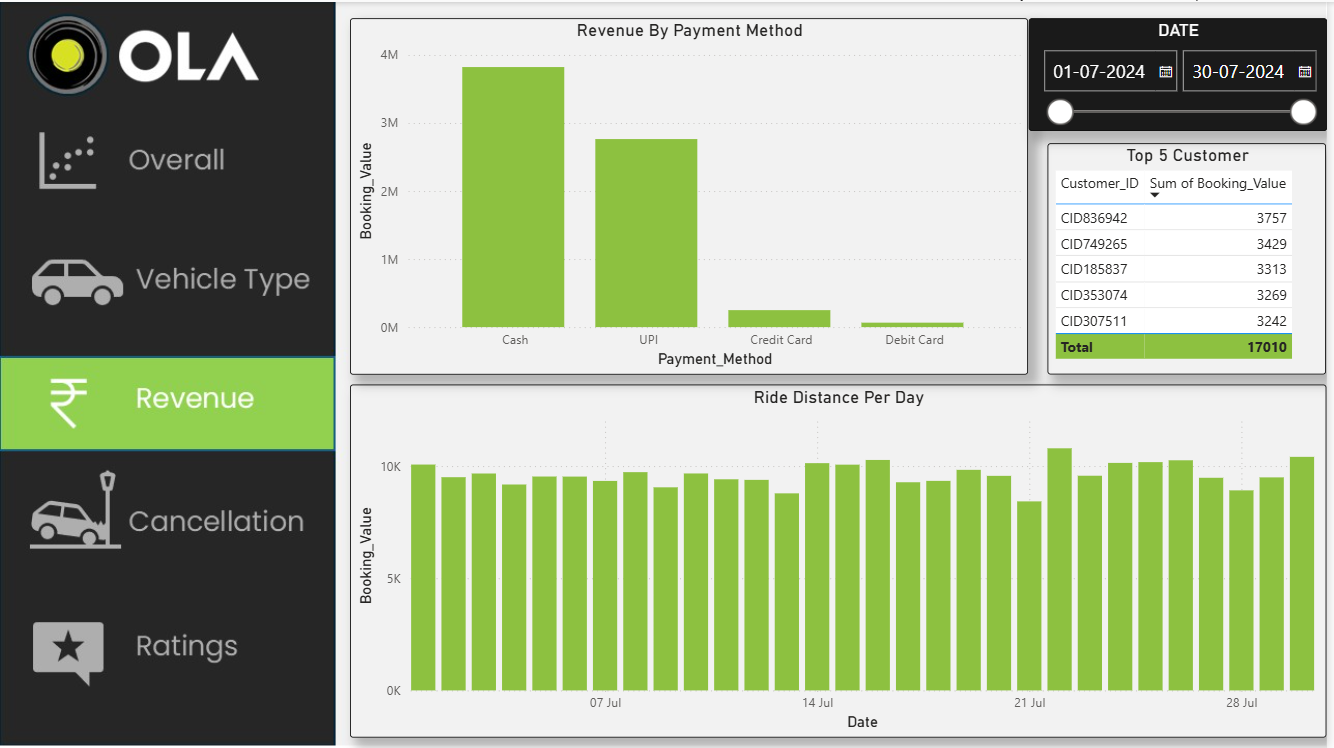

Layout of this report page (visuals, bound fields, positions):
{"tool":"powerbi","page":{"name":"Revenue","canvas":[1280,720],"ordinal":2},"visuals":[{"type":"actionButton","box":[0,450,322.1,79.6],"z":0},{"type":"actionButton","box":[0,450,322.1,79.6],"z":1000},{"type":"columnChart","title":"Revenue By Payment Method","fields":{"Y":["Sum(July.Booking_Value)"],"Category":["July.Payment_Method"]},"box":[338,15.8,654.5,343.7],"z":2000},{"type":"columnChart","title":"Ride Distance Per Day","fields":{"Y":["Sum(July.Ride_Distance)"],"Category":["July.Date"]},"box":[338,369.5,942.3,340.8],"z":3000},{"type":"slicer","title":"DATE","fields":{"Values":["July.Date"]},"box":[992.4,15.8,287.9,108.8],"z":4000},{"type":"tableEx","title":"Top 5 Customer","fields":{"Values":["July.Customer_ID","Sum(July.Booking_Value)"]},"box":[1011,136.3,269,223.2],"z":5000}]}

Visuals, with their boxes in screenshot pixels (x1, y1, x2, y2), scaled from the page's 1280x720 canvas onto the 1334x748 screenshot:
actionButton: x1=0, y1=468, x2=336, y2=550
actionButton: x1=0, y1=468, x2=336, y2=550
"Revenue By Payment Method" columnChart: x1=352, y1=16, x2=1034, y2=373
"Ride Distance Per Day" columnChart: x1=352, y1=384, x2=1333, y2=738
"DATE" slicer: x1=1034, y1=16, x2=1333, y2=129
"Top 5 Customer" tableEx: x1=1054, y1=142, x2=1333, y2=373
